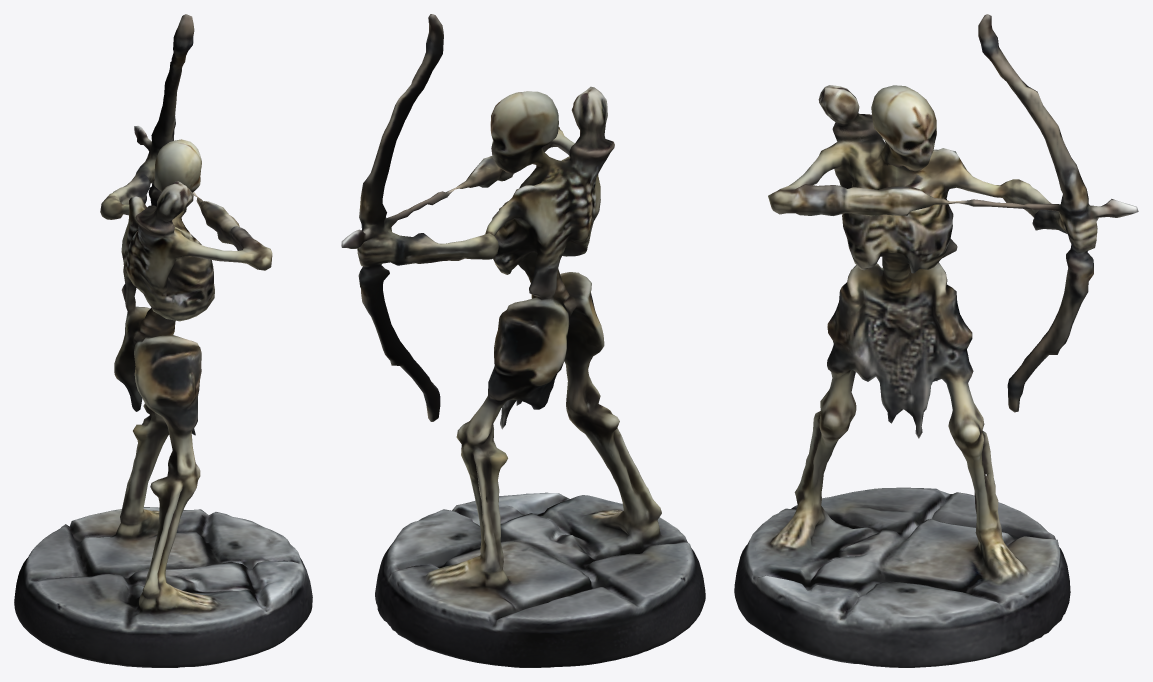
The model's file is skeletonarcher.glb.
The picture shows the model from 3 angles, left to right: view 1: azimuth 30°, elevation 25°; view 2: azimuth 150°, elevation 25°; view 3: azimuth 270°, elevation 25°; orthographic projection. The views are drawn at different scales.
Parts seen in each view (by area): view 1: lagrange_node; view 2: lagrange_node; view 3: lagrange_node.
Boxes of the visible parts, bbox=[...] form: lagrange_node: bbox=[14, 14, 312, 667]; lagrange_node: bbox=[341, 14, 705, 667]; lagrange_node: bbox=[734, 14, 1138, 667].
Bounding box in the file's own units: 0.9936 × 2.01 × 1.19.
1 material, 1 textured.
